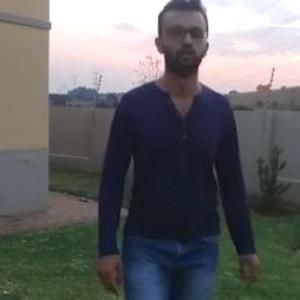follow: (105, 2, 254, 299)
